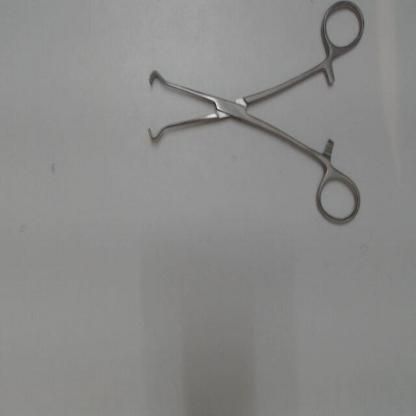Babcock Tissue Forceps: (142, 1, 366, 231)
